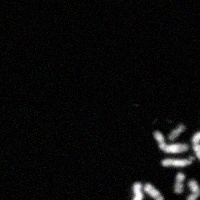chromosome: (153, 131, 188, 153), (161, 155, 194, 168), (144, 183, 163, 200), (167, 124, 184, 142), (186, 179, 200, 200), (193, 132, 200, 167), (174, 172, 185, 193), (130, 183, 143, 200)
